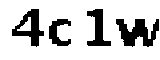1: (82, 5, 115, 52)
4: (11, 6, 48, 50)
c: (46, 15, 75, 51)
w: (112, 12, 160, 53)
